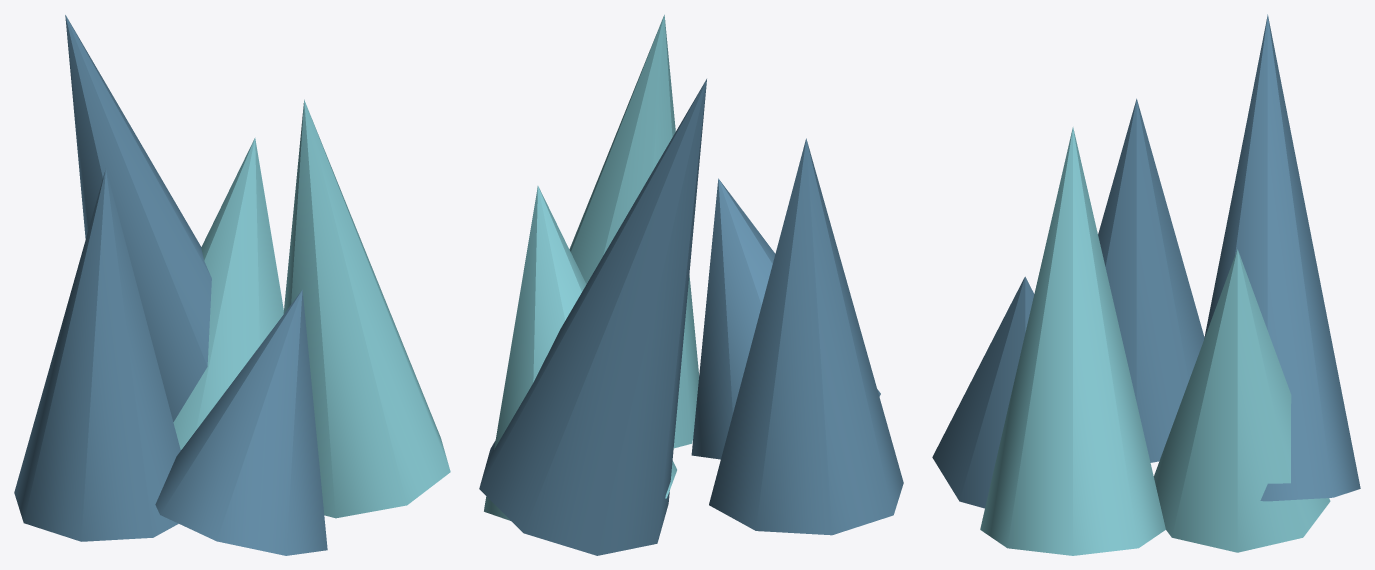
Rendered from terrain-crystal.glb.
3 renders of one model, left to right at view 1: azimuth 30°, elevation 25°; view 2: azimuth 150°, elevation 25°; view 3: azimuth 270°, elevation 25°, orthographic. The views are drawn at different scales.
Parts seen in each view (by area): view 1: terrain-crystal; view 2: terrain-crystal; view 3: terrain-crystal.
Boxes of the visible parts, box(x1,y1,x2,y2) form: terrain-crystal: box(14, 15, 450, 555); terrain-crystal: box(479, 14, 903, 555); terrain-crystal: box(932, 14, 1360, 555).
Size of the model in its own units: 0.8896 by 1 by 0.8762.
